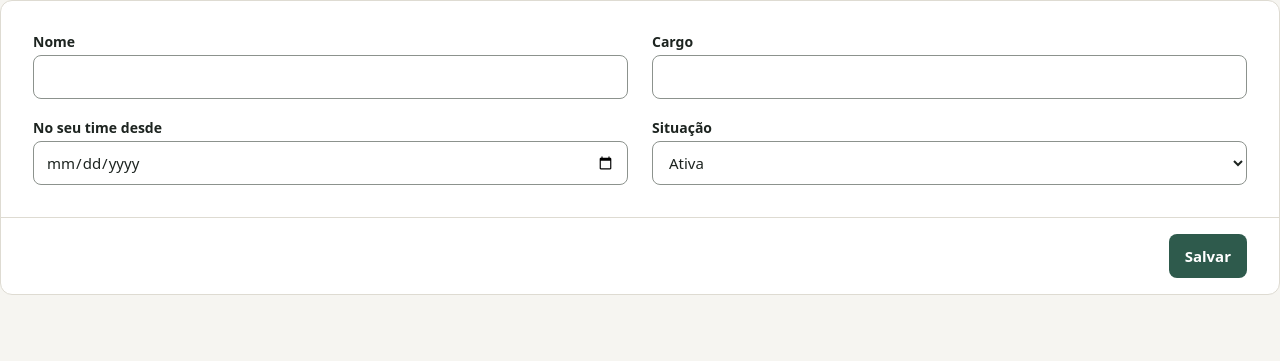
Test: DirectReportForm › deve mostrar os erros e não enviar quando faltam campos
Click the button "Salvar" at (1208, 256), box [1169,234,1247,278]
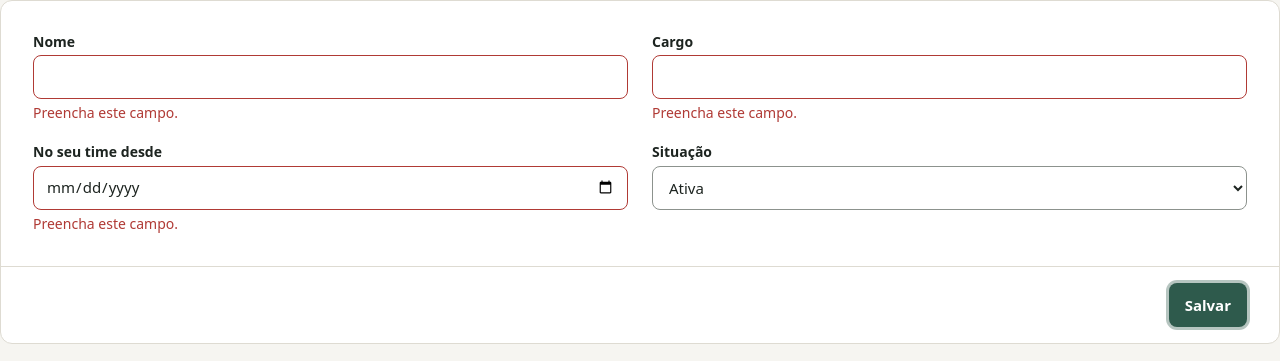
Result: the text "Preencha este campo." is shown 3 times at [33,103,178,122]; [652,103,797,122]; [33,214,178,233]
